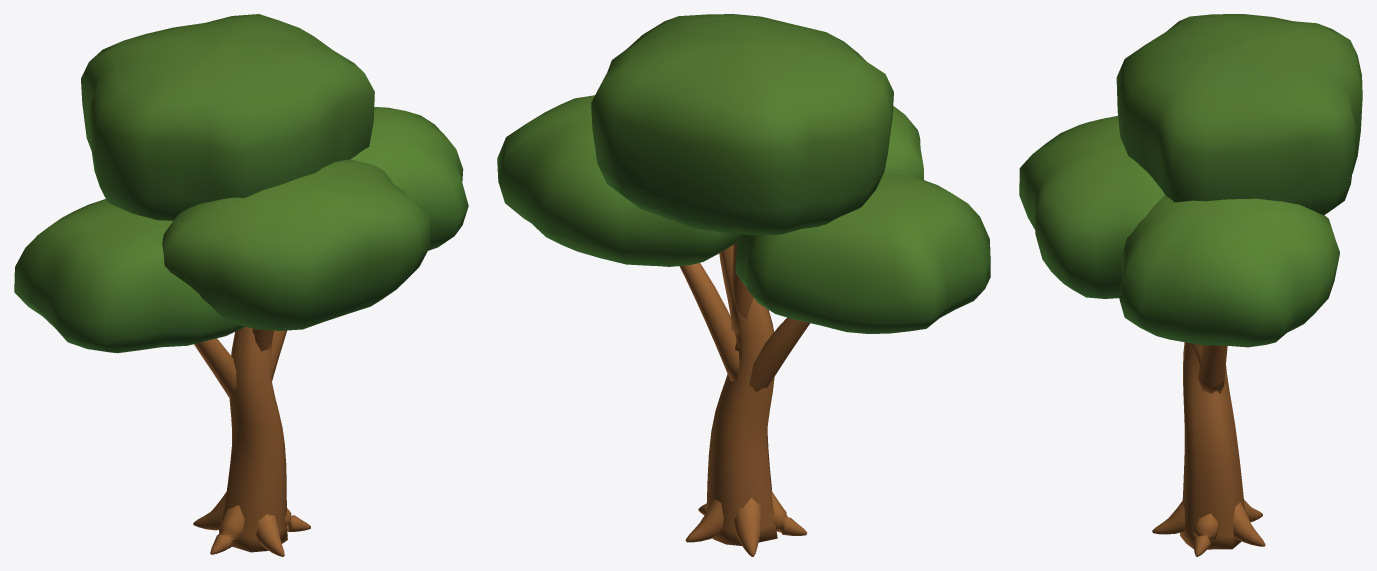
Rendered from canopy_oak.glb.
The picture shows the model from 3 angles, left to right: view 1: azimuth 30°, elevation 25°; view 2: azimuth 150°, elevation 25°; view 3: azimuth 270°, elevation 25°; orthographic projection. The views are drawn at different scales.
Visible parts, largest first — view 1: Foliage, Wood; view 2: Foliage, Wood; view 3: Foliage, Wood.
Boxes of the visible parts, bbox=[...] form: Foliage: bbox=[14, 14, 468, 353]; Wood: bbox=[193, 326, 310, 556]; Foliage: bbox=[497, 14, 990, 333]; Wood: bbox=[679, 242, 809, 556]; Foliage: bbox=[1019, 14, 1362, 347]; Wood: bbox=[1152, 342, 1265, 556].
Size of the model in its own units: 5.75 by 6.32 by 4.03.
